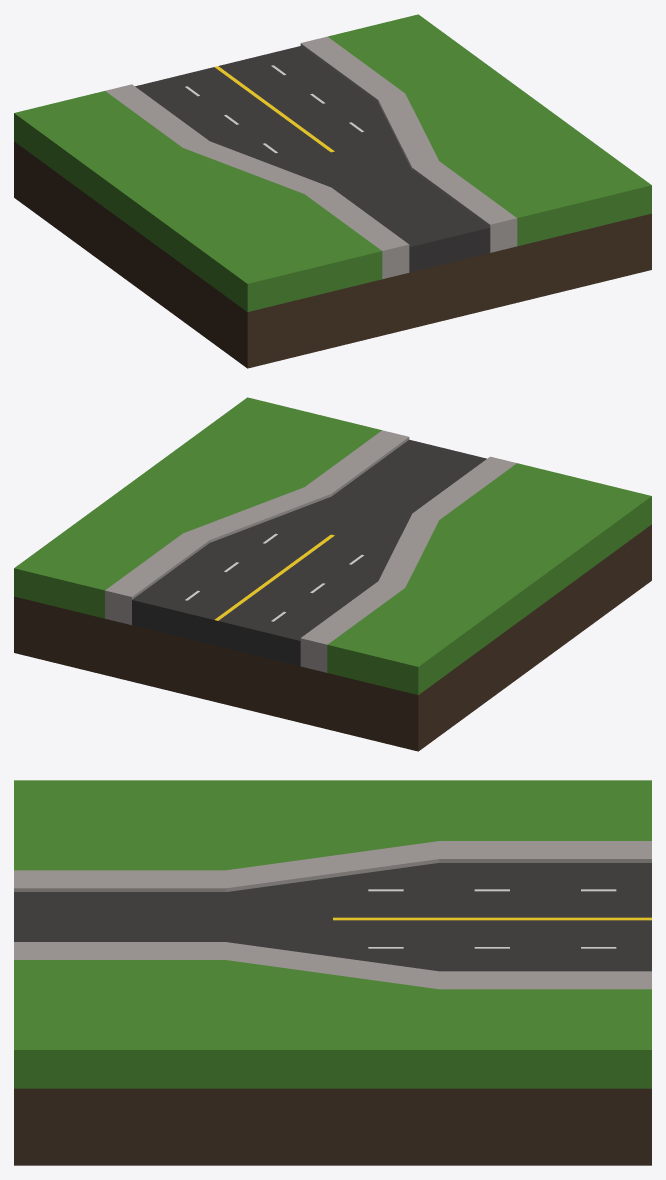
Rendered from tiles_tile-road-to-mainroad.fbx.
3 views of the same model, one above another, from view 1: azimuth 30°, elevation 25°; view 2: azimuth 150°, elevation 25°; view 3: azimuth 270°, elevation 25° (orthographic). The views are drawn at different scales.
Parts seen in each view (by area): view 1: tiles_tile_road_to_mainroad; view 2: tiles_tile_road_to_mainroad; view 3: tiles_tile_road_to_mainroad.
Boxes of the visible parts, left/top/right/bottom form: tiles_tile_road_to_mainroad: left=14, top=14, right=651, bottom=368; tiles_tile_road_to_mainroad: left=14, top=397, right=651, bottom=751; tiles_tile_road_to_mainroad: left=14, top=780, right=651, bottom=1165.
Bounding box in the file's own units: 200 × 40 × 200.
